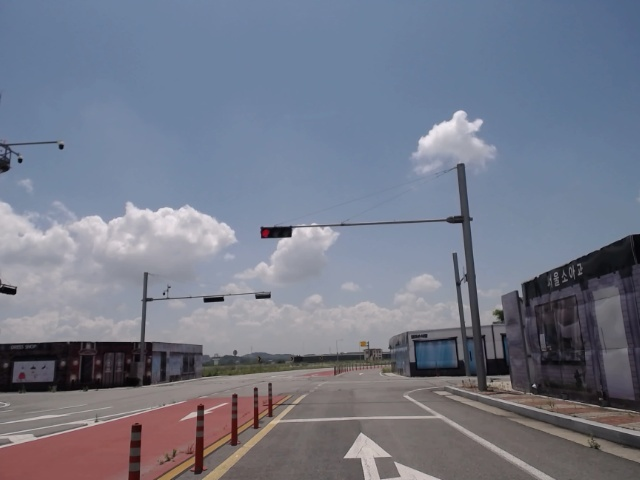red_3: (258, 225, 294, 240)
